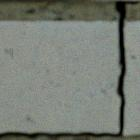brick: (0, 0, 114, 1)
broken_brick: (0, 21, 120, 132), (123, 21, 139, 135)
crack: (0, 0, 139, 139)
